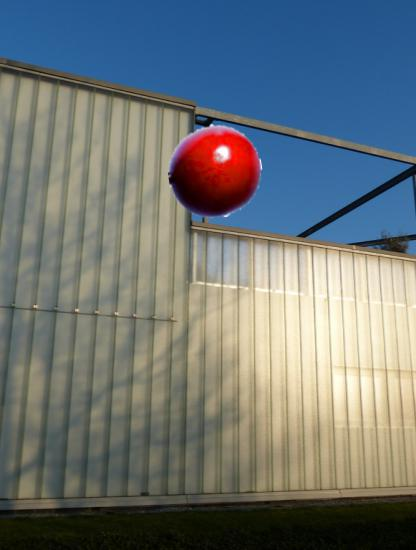Tamarillo: (168, 124, 263, 219)
